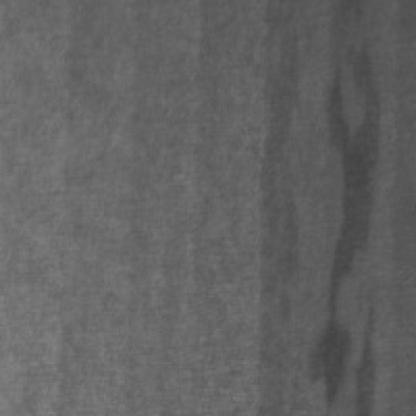inclusion: (312, 43, 399, 416), (254, 6, 312, 416)
